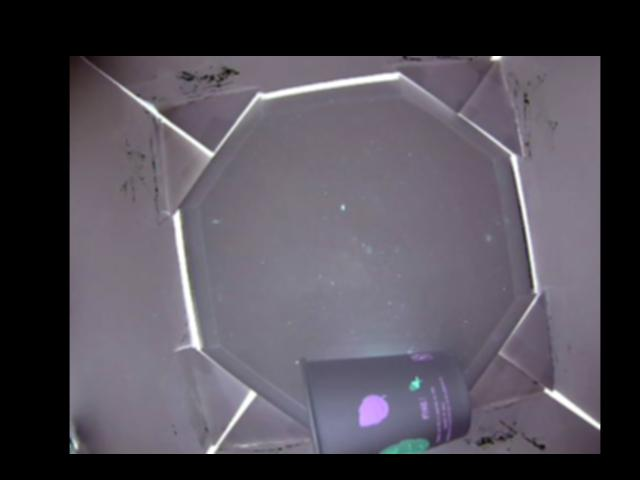Cup: (296, 351, 470, 454)
